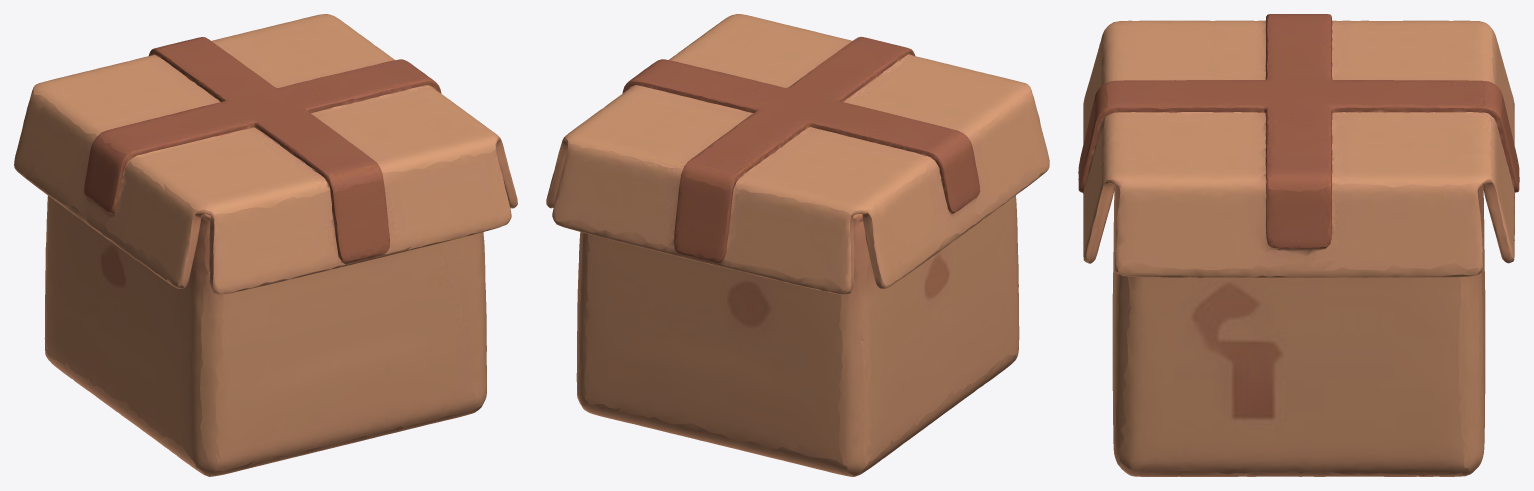
The model's file is caja.glb.
The picture shows the model from 3 angles, left to right: view 1: azimuth 30°, elevation 25°; view 2: azimuth 150°, elevation 25°; view 3: azimuth 270°, elevation 25°; orthographic projection. The views are drawn at different scales.
Size of the model in its own units: 0.9752 by 0.7832 by 0.9965.
1 material, 1 textured.
